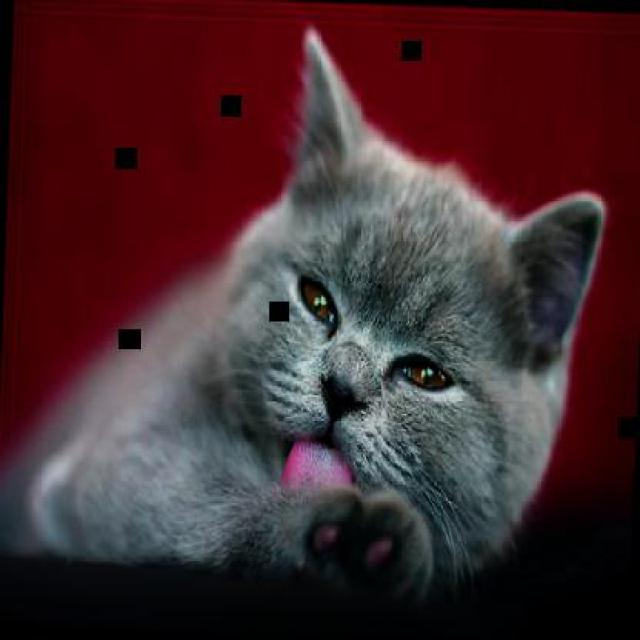cat: (0, 16, 614, 606)
